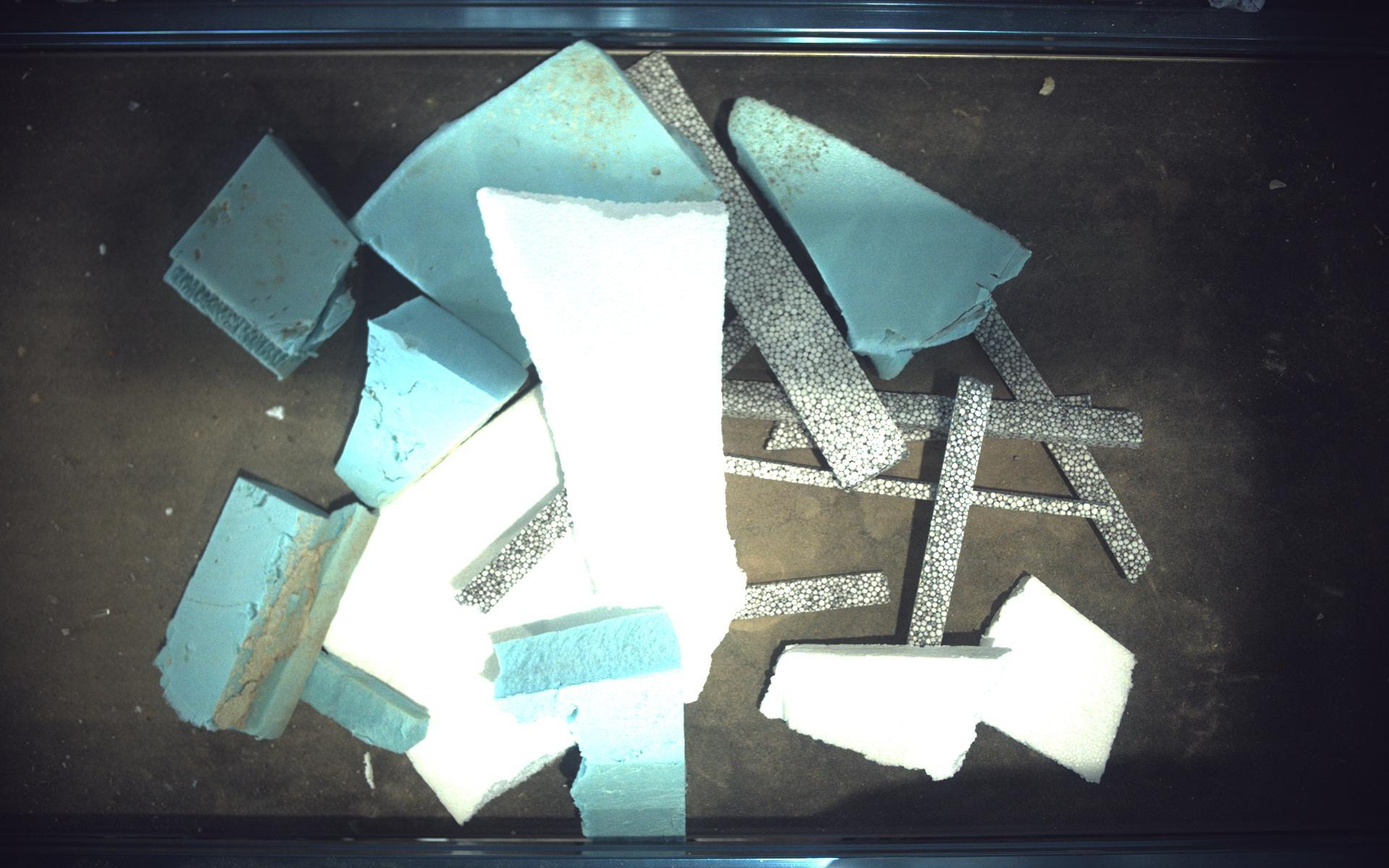foam: (477, 187, 744, 702), (628, 51, 909, 488), (350, 40, 721, 366), (325, 390, 598, 824), (730, 95, 1033, 379), (154, 477, 377, 740), (163, 133, 358, 378), (485, 608, 687, 839), (334, 296, 527, 508), (761, 645, 1008, 781), (982, 574, 1138, 783), (1049, 443, 1154, 583), (456, 489, 572, 614), (301, 650, 430, 755), (977, 307, 1059, 402), (988, 400, 1145, 448), (736, 572, 892, 620), (970, 488, 1109, 519), (726, 455, 841, 488), (880, 391, 956, 438), (725, 380, 799, 424), (854, 477, 940, 502), (723, 315, 755, 376), (766, 421, 817, 451), (1060, 394, 1092, 406)
